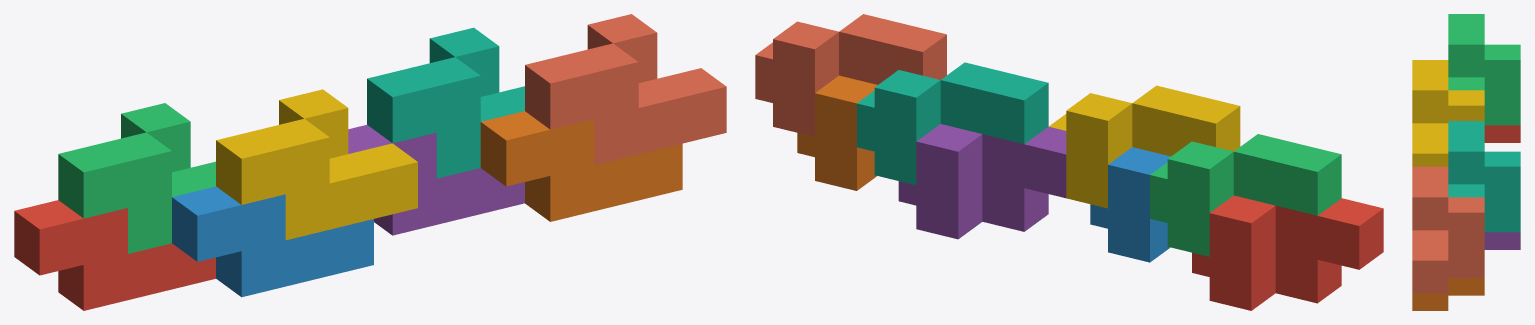
The model's file is tiling.obj.
3 views of the same model, side by side, from view 1: azimuth 30°, elevation 25°; view 2: azimuth 150°, elevation 25°; view 3: azimuth 270°, elevation 25° (orthographic). The views are drawn at different scales.
Parts seen in each view (by area): view 1: copy_1_domain_8, copy_1_domain_4, copy_1_domain_6, copy_1_domain_2, copy_1_domain_7, copy_1_domain_3, copy_1_domain_1, copy_1_domain_5; view 2: copy_1_domain_1, copy_1_domain_5, copy_1_domain_7, copy_1_domain_3, copy_1_domain_8, copy_1_domain_4, copy_1_domain_2, copy_1_domain_6; view 3: copy_1_domain_8, copy_1_domain_3, copy_1_domain_7, copy_1_domain_4, copy_1_domain_6, copy_1_domain_1, copy_1_domain_5.
Boxes of the visible parts, <box> form: copy_1_domain_8: <box>525,14,726,164</box>; copy_1_domain_4: <box>216,89,417,240</box>; copy_1_domain_6: <box>480,111,682,221</box>; copy_1_domain_2: <box>172,186,373,297</box>; copy_1_domain_7: <box>367,27,524,178</box>; copy_1_domain_3: <box>58,103,215,253</box>; copy_1_domain_1: <box>14,200,215,310</box>; copy_1_domain_5: <box>348,125,524,235</box>; copy_1_domain_1: <box>1192,195,1383,310</box>; copy_1_domain_5: <box>898,124,1066,239</box>; copy_1_domain_7: <box>857,62,1048,185</box>; copy_1_domain_3: <box>1150,134,1341,256</box>; copy_1_domain_8: <box>755,14,946,136</box>; copy_1_domain_4: <box>1049,85,1240,208</box>; copy_1_domain_2: <box>1090,147,1170,262</box>; copy_1_domain_6: <box>797,75,877,190</box>; copy_1_domain_8: <box>1412,166,1484,293</box>; copy_1_domain_3: <box>1448,14,1520,125</box>; copy_1_domain_7: <box>1448,121,1520,232</box>; copy_1_domain_4: <box>1412,60,1484,166</box>; copy_1_domain_6: <box>1412,278,1484,310</box>; copy_1_domain_1: <box>1484,125,1520,142</box>; copy_1_domain_5: <box>1484,232,1520,249</box>.
Size of the model in its own units: 15 by 3 by 3.
